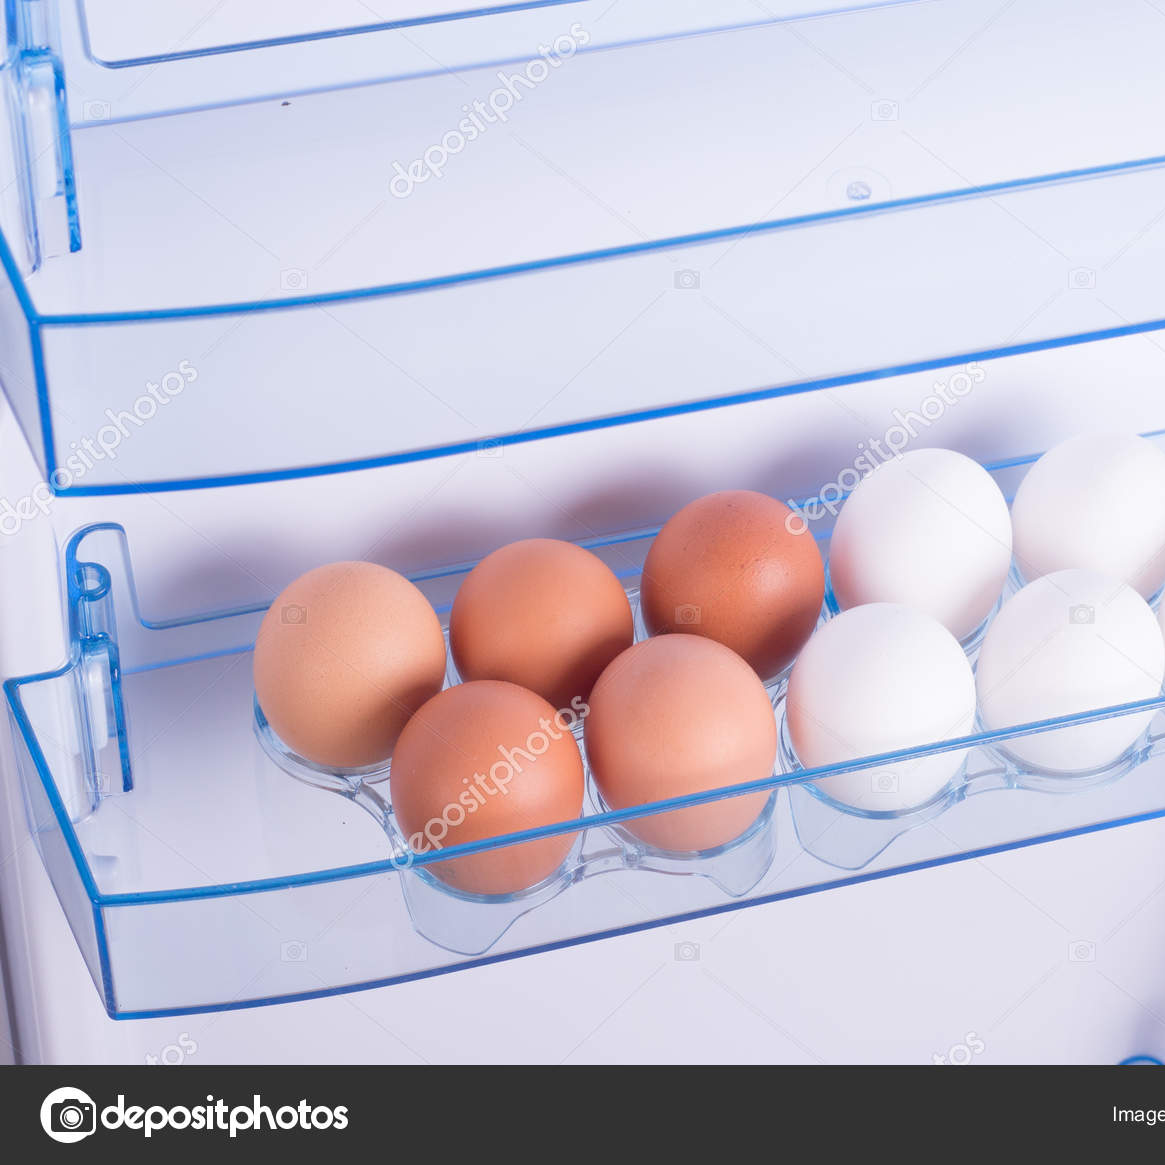egg: (197, 432, 1165, 889)
